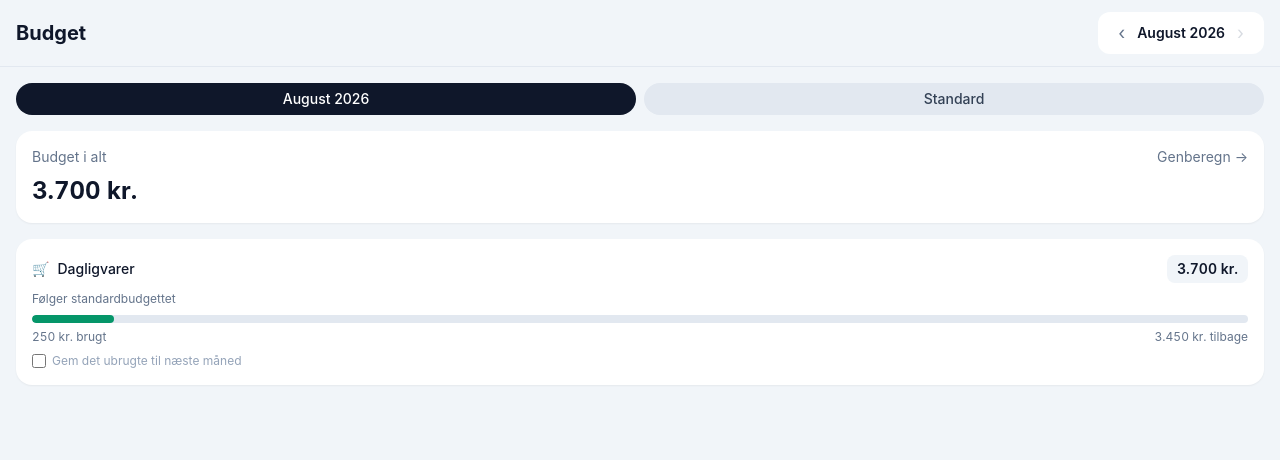
editing a budget amount › opens with plain whole kroner rather than a formatted amount
Click the button "3.700 kr.": [1208, 269] box left=1167, top=255, right=1248, bottom=283
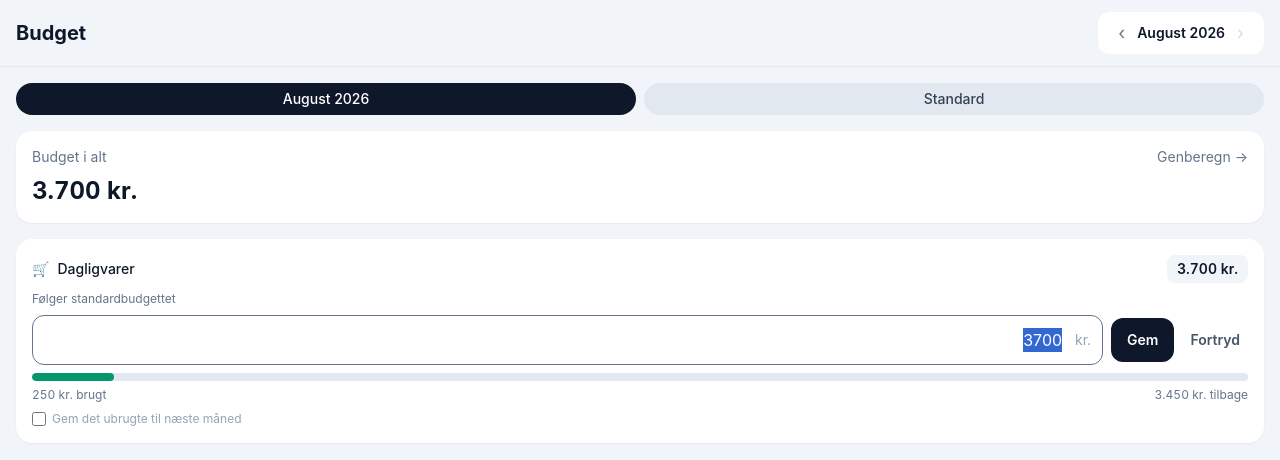
Check: the field named "Budget for Dagligvarer" holds "3700", box left=32, top=315, right=1103, bottom=365
